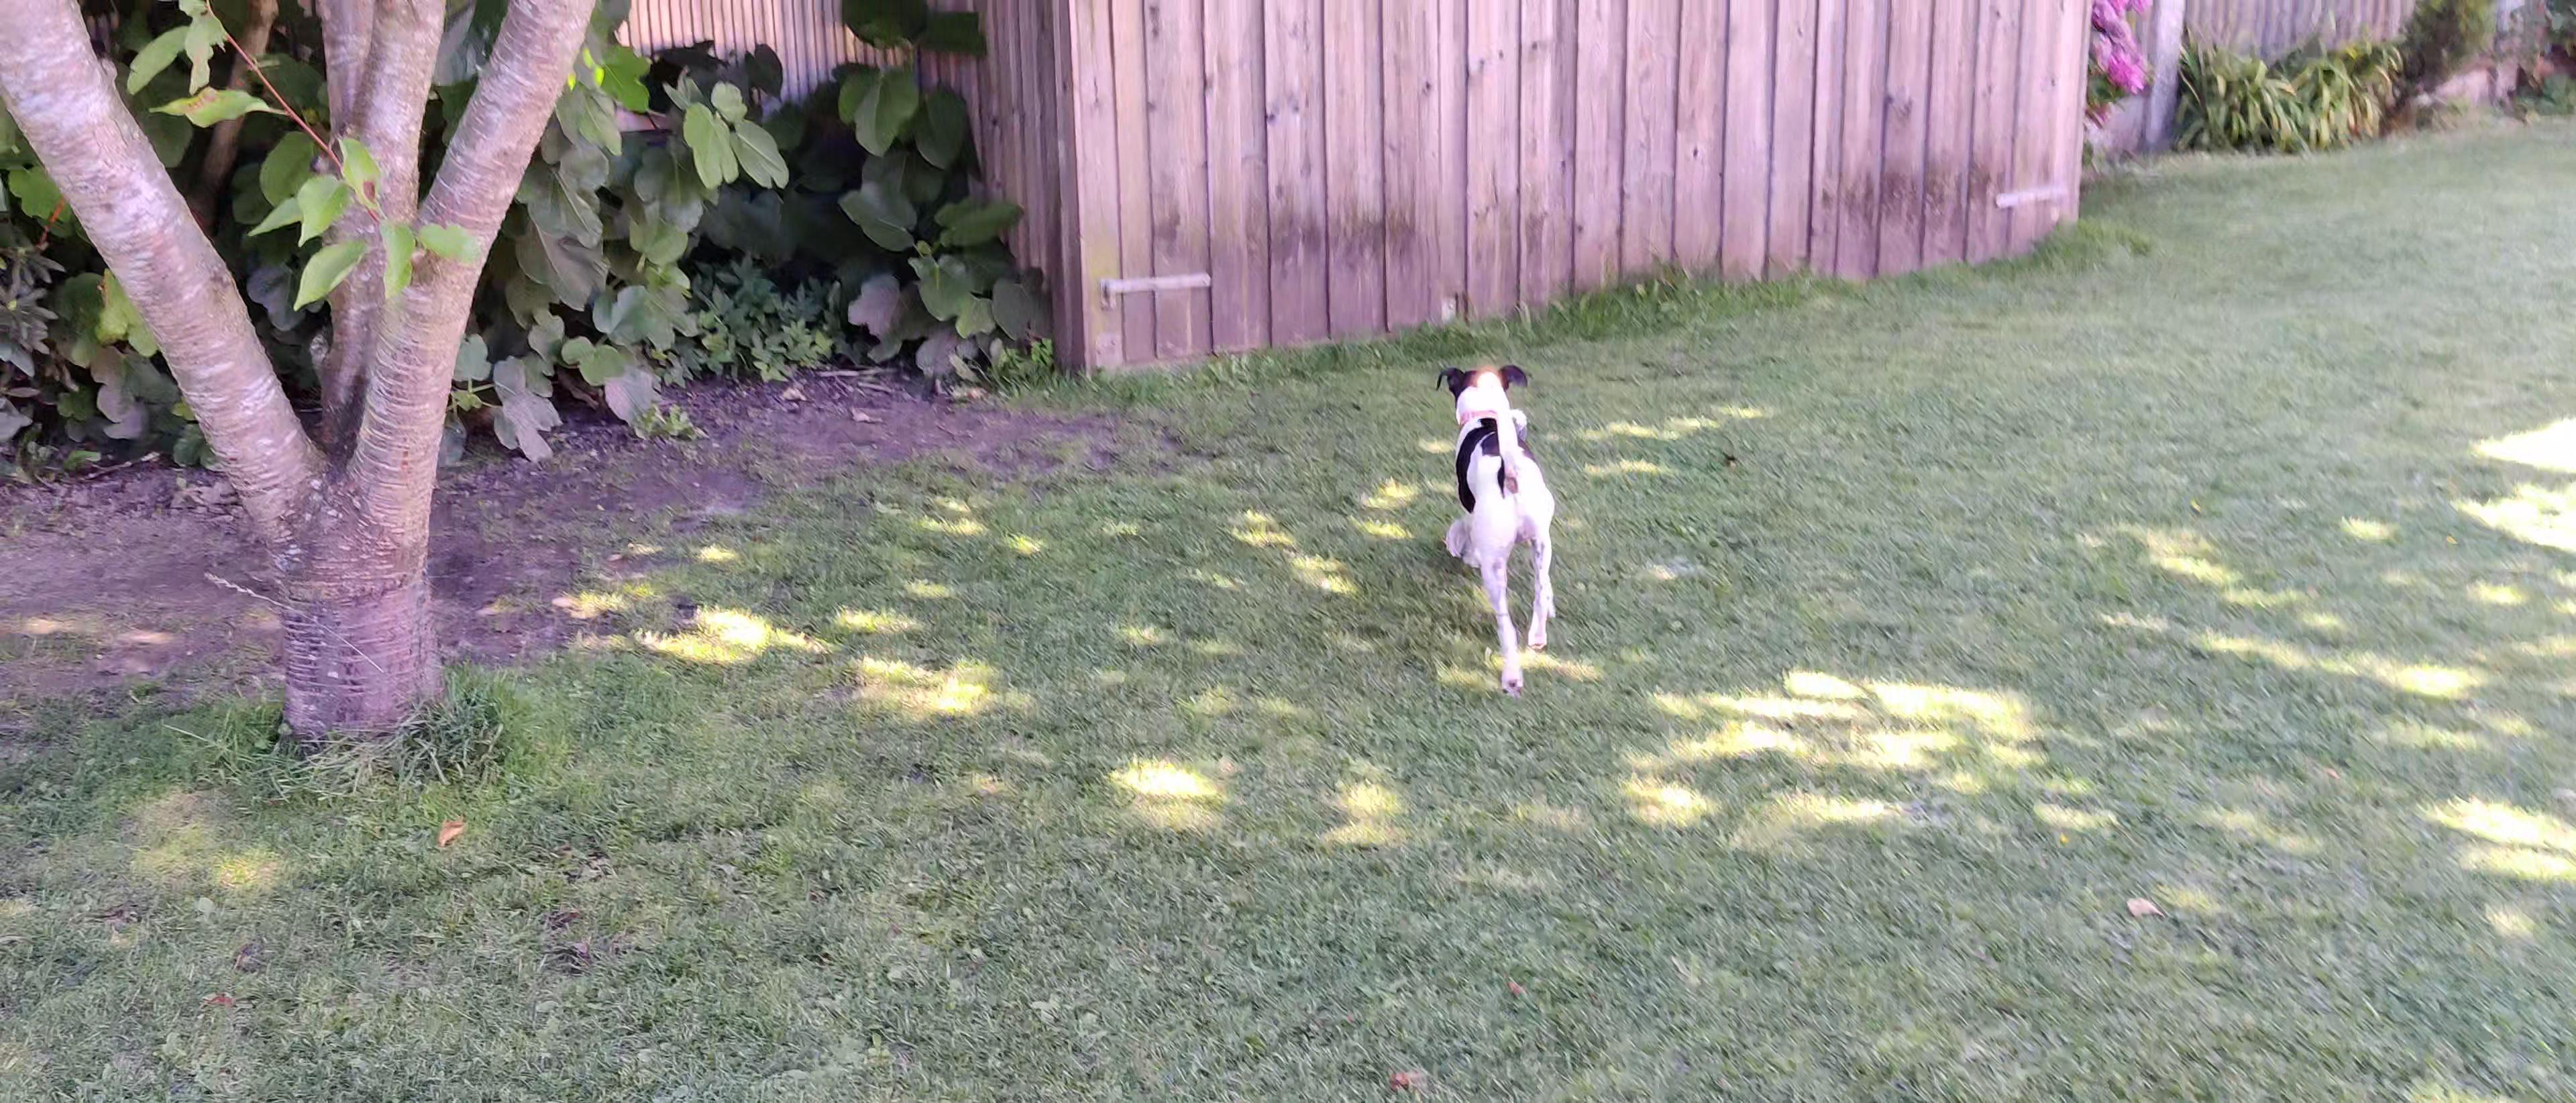Dog: (1428, 358, 1559, 702)
